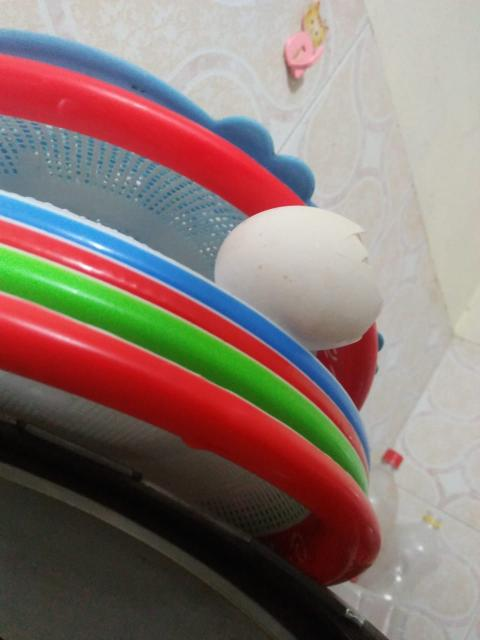Roto: (213, 204, 385, 350)
